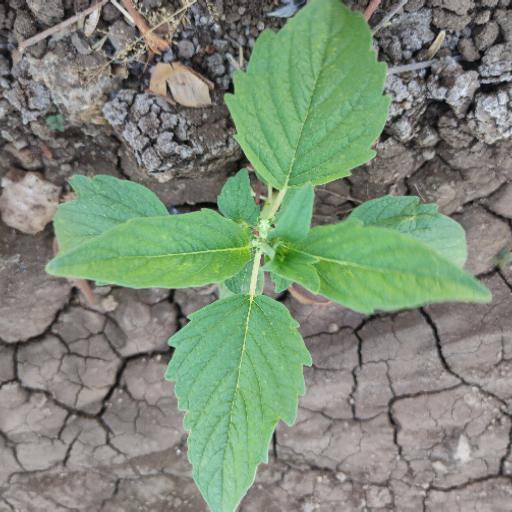crop: (38, 4, 494, 512)
